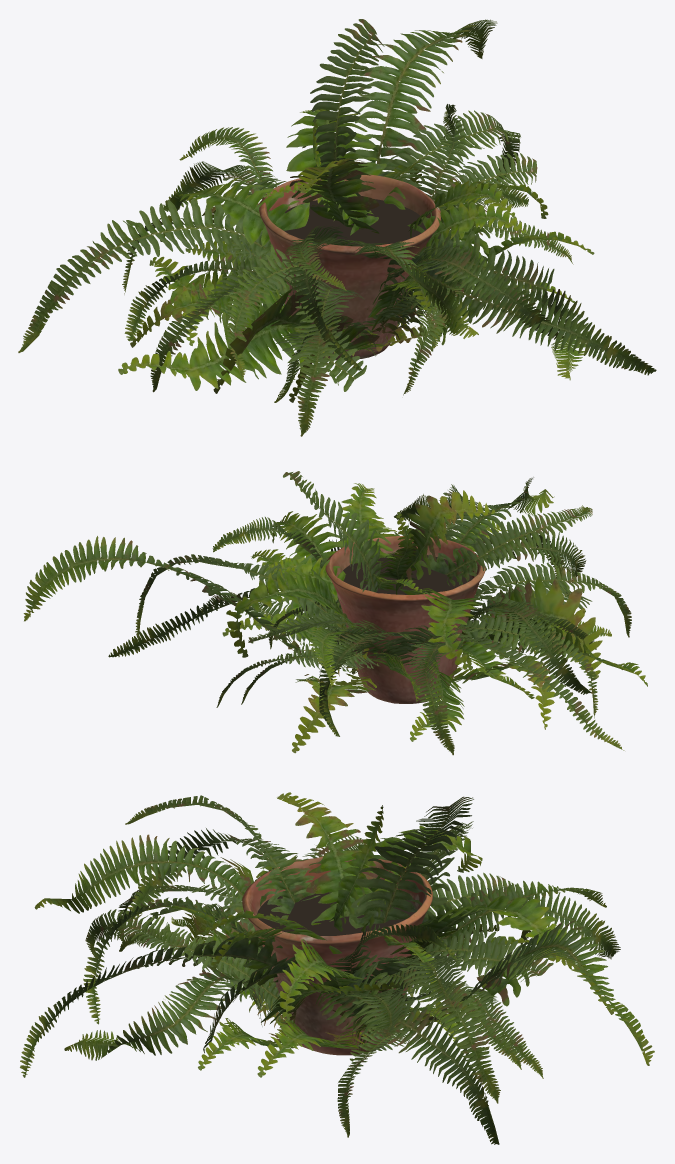
Rendered from heron-reach-world-plants.glb.
3 renders of one model, top to bottom at view 1: azimuth 30°, elevation 25°; view 2: azimuth 150°, elevation 25°; view 3: azimuth 270°, elevation 25°, orthographic. The views are drawn at different scales.
Visible parts, largest first — view 1: WORLD_FERN_B_mesh, WORLD_FERN_C_mesh, WORLD_CLAY_POT_mesh, WORLD_FERN_D_mesh, WORLD_FERN_A_mesh, WORLD_CLAY_POT_soil; view 2: WORLD_FERN_B_mesh, WORLD_FERN_C_mesh, WORLD_CLAY_POT_mesh, WORLD_FERN_A_mesh, WORLD_FERN_D_mesh, WORLD_CLAY_POT_soil; view 3: WORLD_FERN_B_mesh, WORLD_FERN_C_mesh, WORLD_FERN_A_mesh, WORLD_CLAY_POT_mesh, WORLD_FERN_D_mesh, WORLD_CLAY_POT_soil.
Boxes of the visible parts, x1,y1,x2,y2 form: WORLD_FERN_B_mesh: (18, 19, 656, 436); WORLD_FERN_C_mesh: (118, 119, 588, 402); WORLD_CLAY_POT_mesh: (259, 174, 440, 360); WORLD_FERN_D_mesh: (149, 178, 574, 402); WORLD_FERN_A_mesh: (182, 104, 554, 352); WORLD_CLAY_POT_soil: (284, 199, 426, 246); WORLD_FERN_B_mesh: (23, 471, 631, 753); WORLD_FERN_C_mesh: (108, 484, 647, 755); WORLD_CLAY_POT_mesh: (325, 536, 485, 703); WORLD_FERN_A_mesh: (212, 517, 534, 707); WORLD_FERN_D_mesh: (266, 519, 611, 741); WORLD_CLAY_POT_soil: (343, 553, 472, 594); WORLD_FERN_B_mesh: (20, 792, 654, 1137); WORLD_FERN_C_mesh: (64, 795, 606, 1144); WORLD_FERN_A_mesh: (119, 865, 553, 1078); WORLD_CLAY_POT_mesh: (242, 856, 432, 1055); WORLD_FERN_D_mesh: (131, 867, 537, 1070); WORLD_CLAY_POT_soil: (257, 887, 417, 935).
Size of the model in its own units: 0.9897 by 0.4277 by 0.8937.
3 materials, 2 textured.
